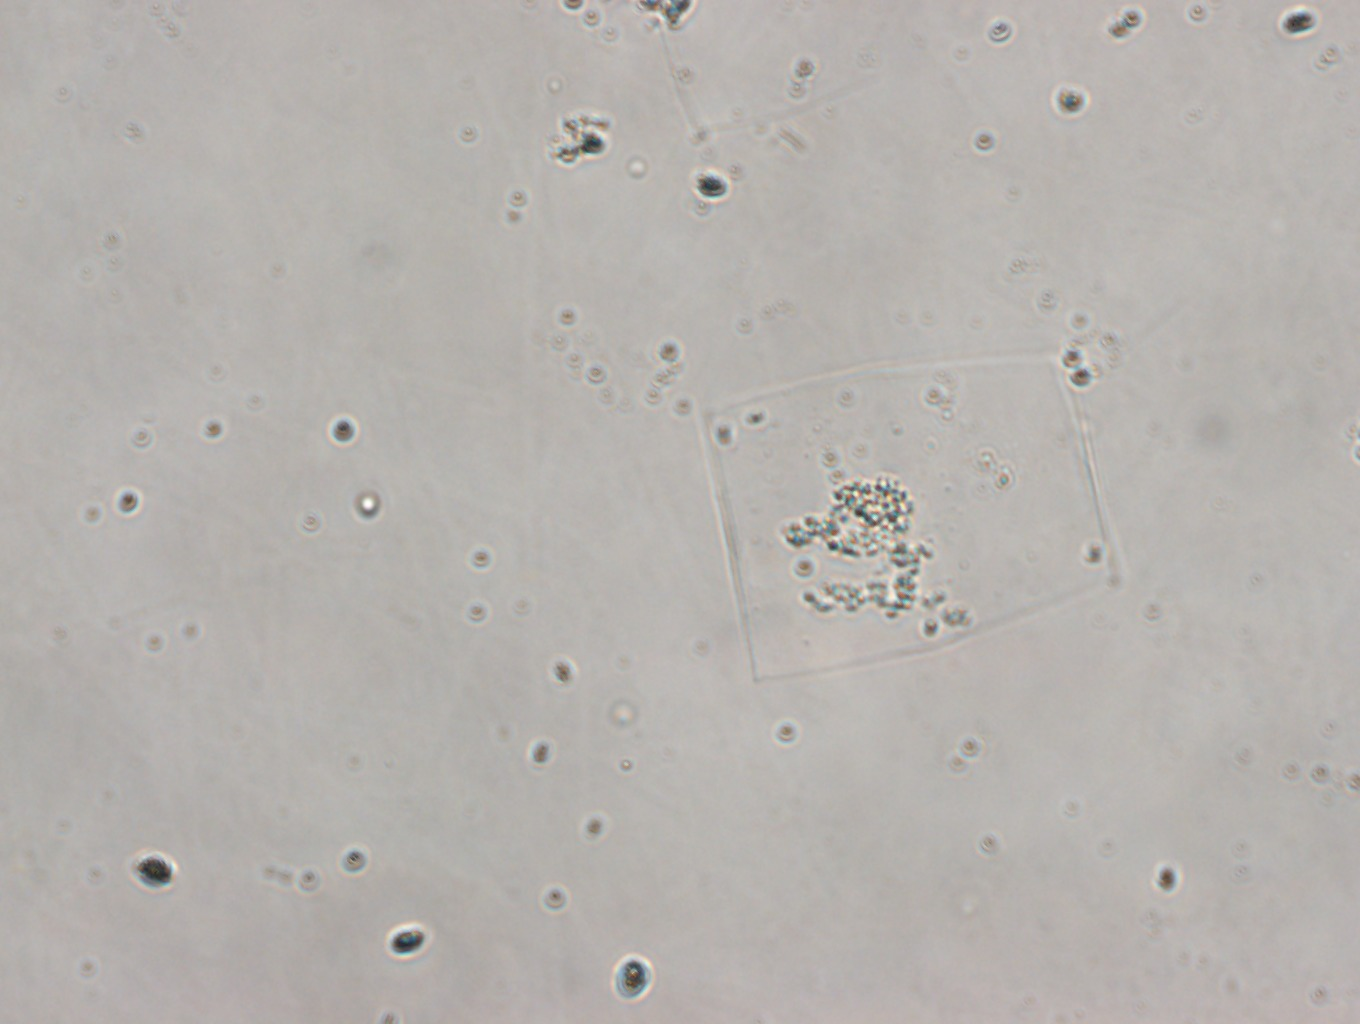helicotheca: (689, 354, 1121, 689)
